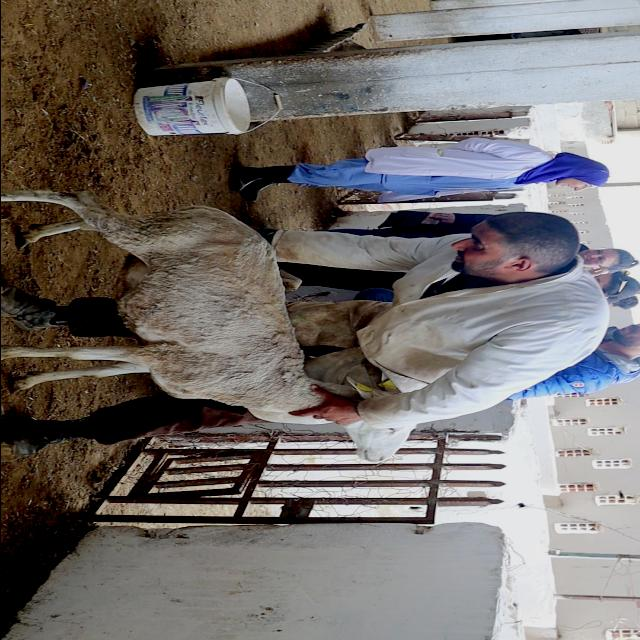Score_1: (1, 190, 320, 422)
